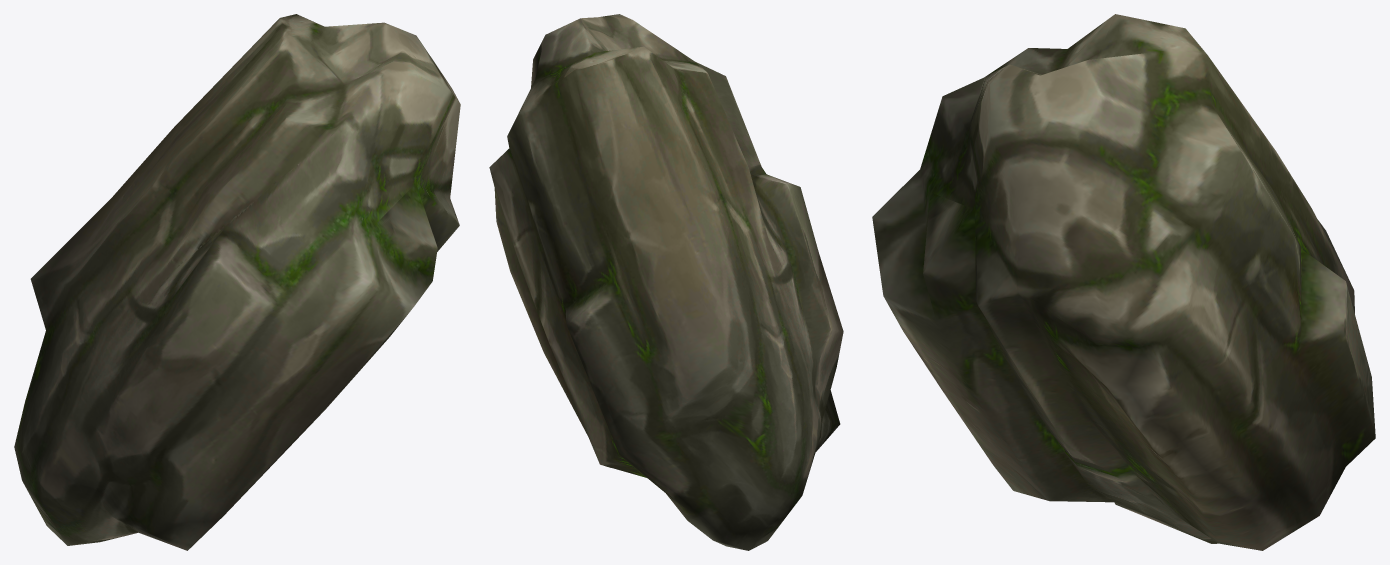
The model's file is RockFormation_4_2 (13).fbx.
The picture shows the model from 3 angles, left to right: view 1: azimuth 30°, elevation 25°; view 2: azimuth 150°, elevation 25°; view 3: azimuth 270°, elevation 25°; orthographic projection. The views are drawn at different scales.
Visible parts, largest first — view 1: RockFormation_4_2 (13); view 2: RockFormation_4_2 (13); view 3: RockFormation_4_2 (13).
Part boxes in pixels (<box>): RockFormation_4_2 (13): <box>14,14,460,550</box>; RockFormation_4_2 (13): <box>489,14,843,550</box>; RockFormation_4_2 (13): <box>872,14,1375,550</box>.
Bounding box in the file's own units: 155 × 196 × 142.
